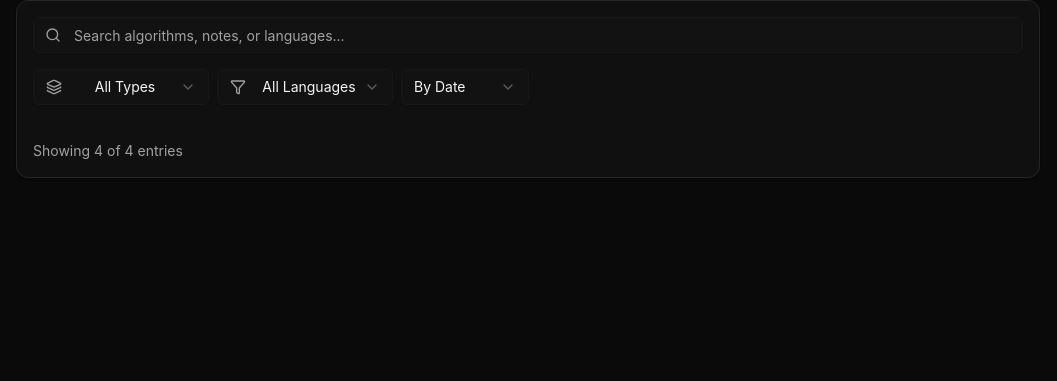
Test: Timeline › should filter by search query
The image size is (1057, 381).
Type "nonexistent" into the field with placeholder "Search algorithms, notes, or languages...".
click(528, 35); type("nonexistent")  # box [33, 17, 1023, 53]
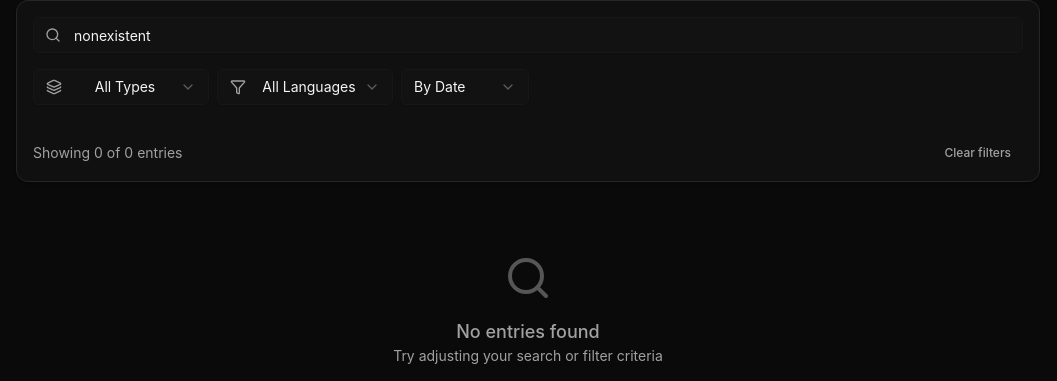
Check: the text "No entries found" is shown, box [456, 321, 600, 342]
